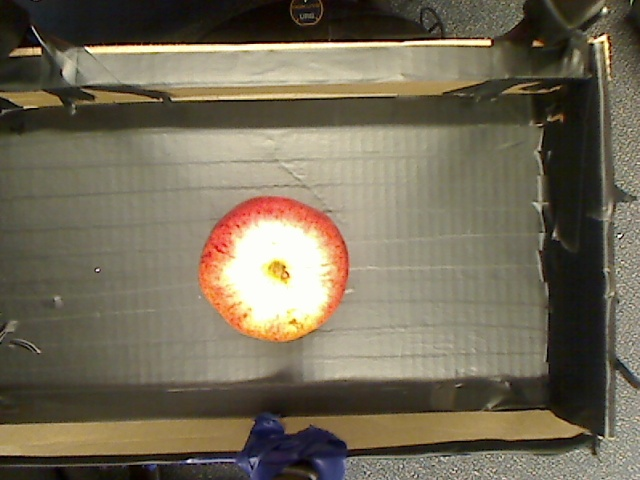apple: (191, 191, 352, 344)
